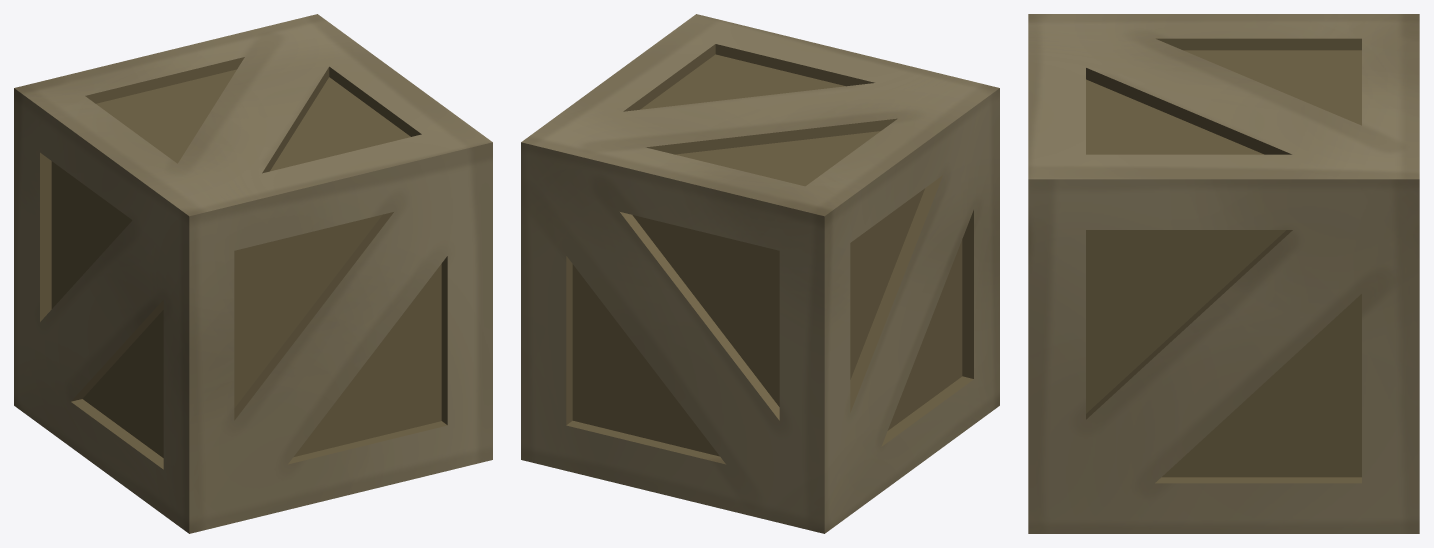
Rendered from crate.fbx.
3 renders of one model, left to right at view 1: azimuth 30°, elevation 25°; view 2: azimuth 150°, elevation 25°; view 3: azimuth 270°, elevation 25°, orthographic. The views are drawn at different scales.
Parts seen in each view (by area): view 1: Cube; view 2: Cube; view 3: Cube.
Part boxes in pixels (<box>): Cube: <box>14,14,492,533</box>; Cube: <box>521,14,999,533</box>; Cube: <box>1028,14,1419,533</box>.
Bounding box in the file's own units: 347 × 347 × 347.
Materials: 1 (1 with a texture image).
